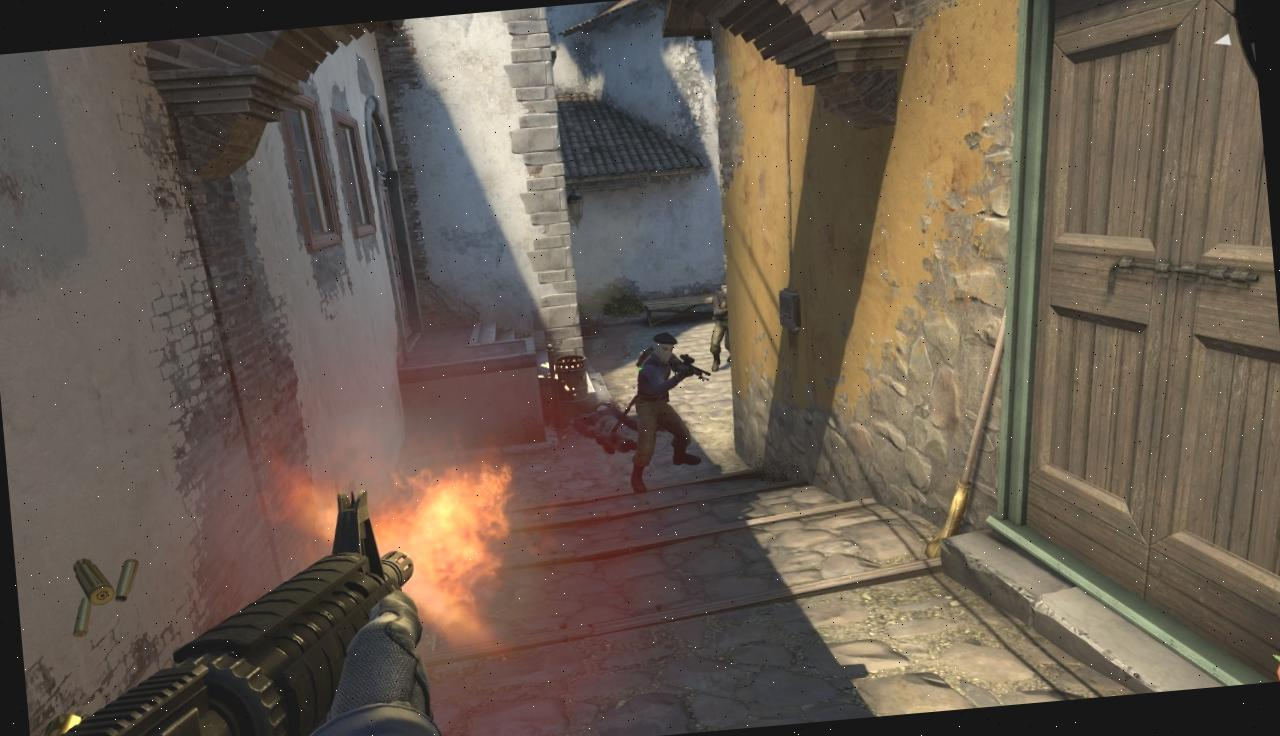rifle: (11, 481, 455, 736)
tt: (619, 330, 703, 494), (703, 284, 734, 373)
tthead: (651, 332, 676, 364), (719, 282, 728, 296)
